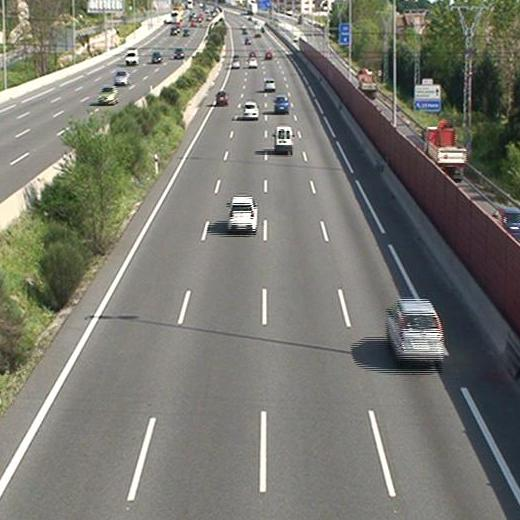car: (387, 298, 442, 363), (227, 197, 257, 228), (274, 95, 290, 113), (242, 101, 258, 118), (215, 91, 227, 105), (263, 78, 275, 90), (247, 57, 258, 66), (231, 58, 239, 66)
van: (274, 125, 293, 151)
